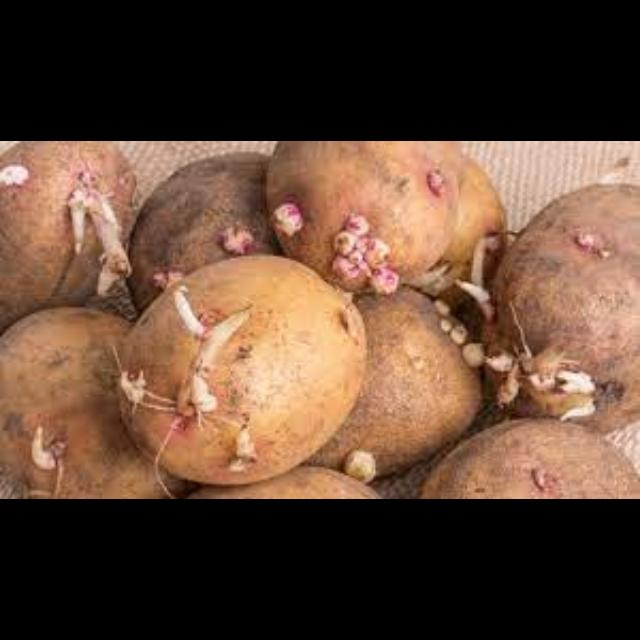Sprouted potato: (109, 242, 364, 482), (446, 152, 640, 438), (311, 270, 493, 492), (1, 302, 196, 498), (108, 148, 292, 324), (263, 141, 463, 291), (1, 142, 138, 328)
